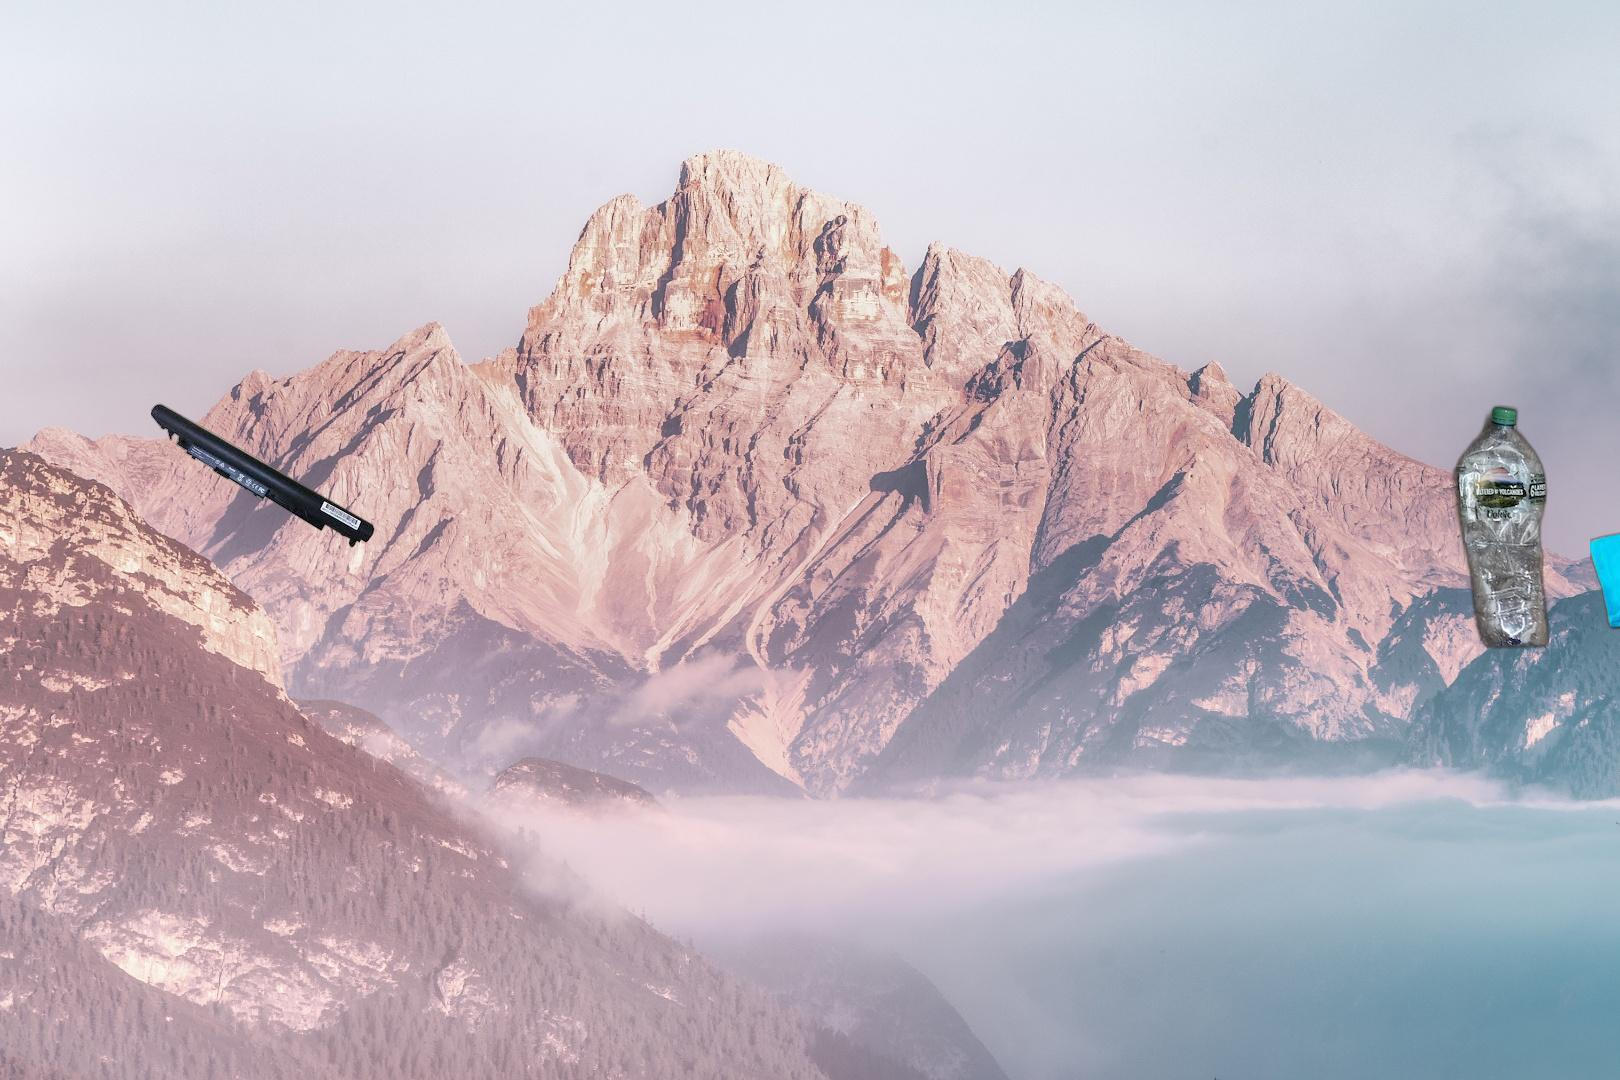battery: (151, 401, 376, 550)
clothes: (1590, 366, 1620, 847)
plastic-bottles: (1449, 400, 1552, 655)
